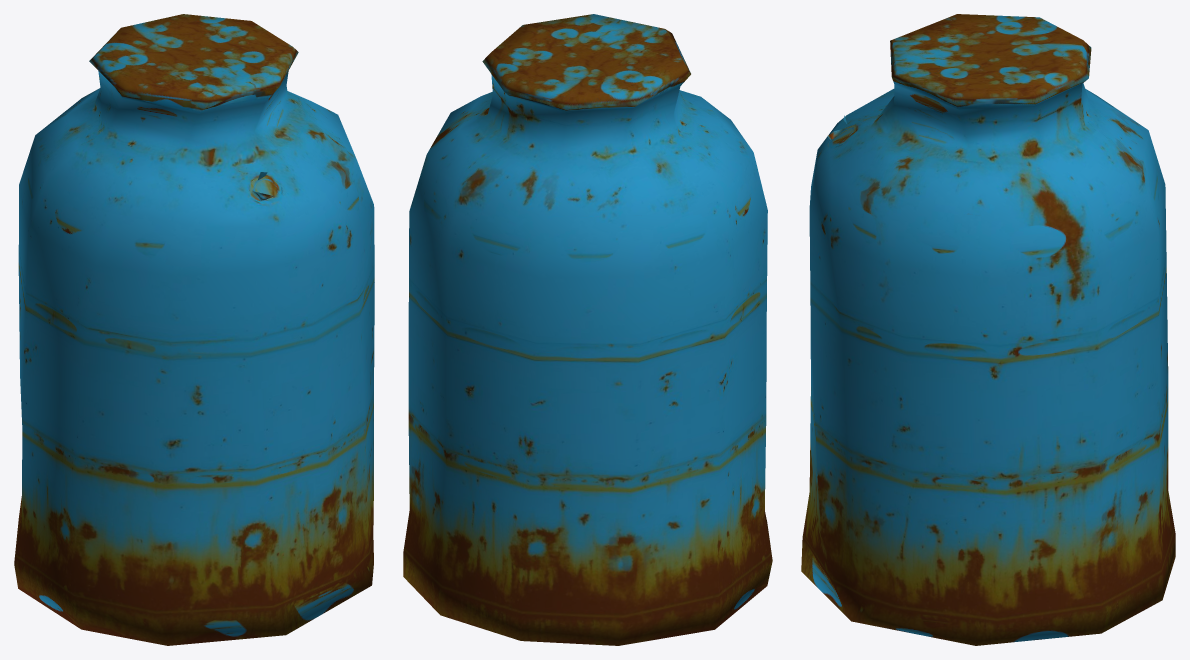
The picture shows the model from 3 angles, left to right: view 1: azimuth 30°, elevation 25°; view 2: azimuth 150°, elevation 25°; view 3: azimuth 270°, elevation 25°; orthographic projection.
Parts seen in each view (by area): view 1: tripo_node_cf68804d; view 2: tripo_node_cf68804d; view 3: tripo_node_cf68804d.
Boxes of the visible parts, bbox=[...] form: tripo_node_cf68804d: bbox=[14, 14, 374, 645]; tripo_node_cf68804d: bbox=[403, 14, 772, 645]; tripo_node_cf68804d: bbox=[801, 14, 1175, 645].
Size of the model in its own units: 63.16 by 99.89 by 63.97.
Materials: 1 (1 with a texture image).
